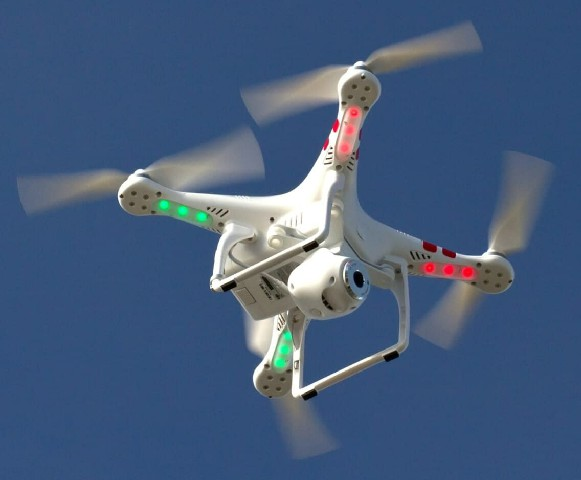maybay_khongnguoilai: (19, 32, 549, 421)
